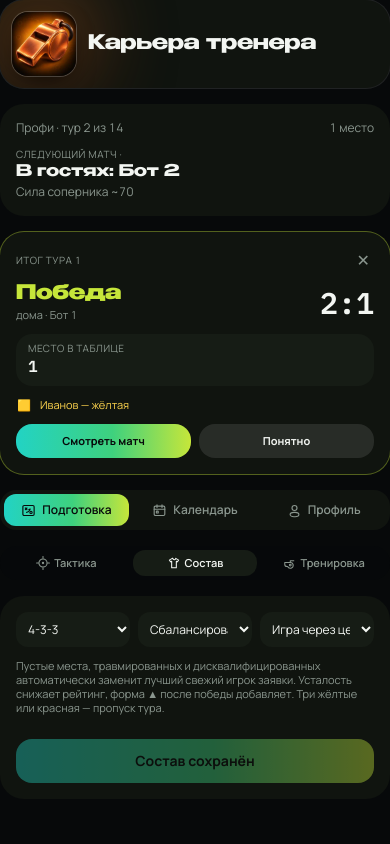
CareerPage › shows the after-match report (cards) in the calendar
Click the tab "Календарь": (195, 510) [133,494,257,526]
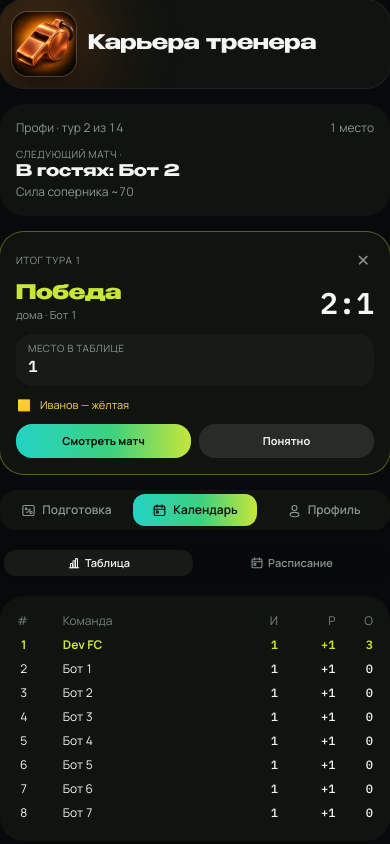
Click the tab "Расписание": (292, 563) [197,550,386,576]
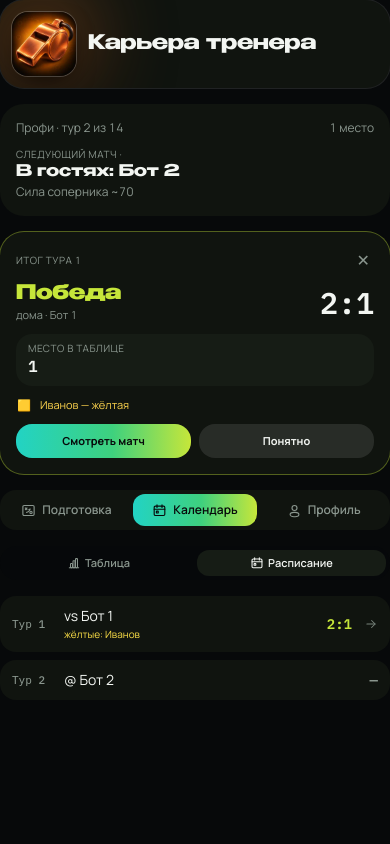
Expected: the text "жёлтые: Иванов" is shown, [64,627,140,641]
